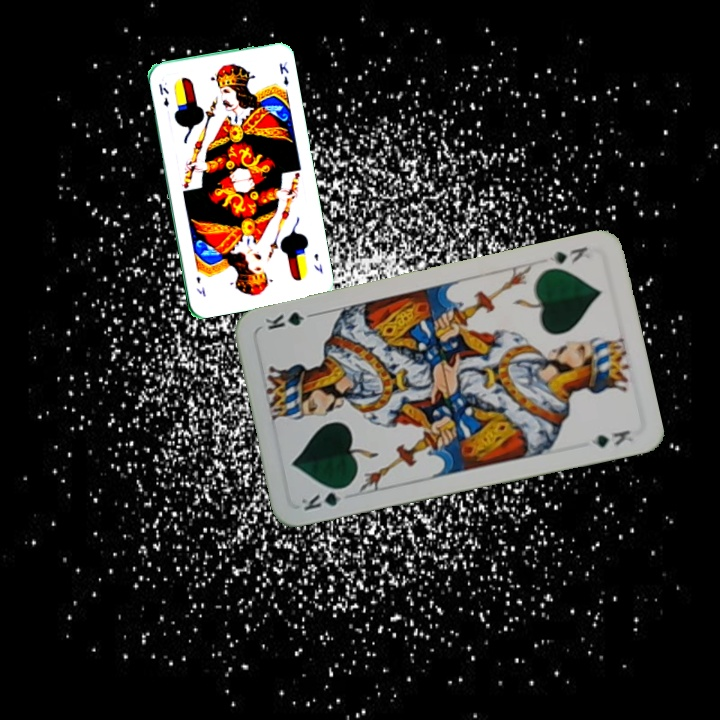EK: (155, 80, 171, 109), (310, 249, 325, 276)
GK: (297, 482, 352, 514), (545, 242, 590, 267)
